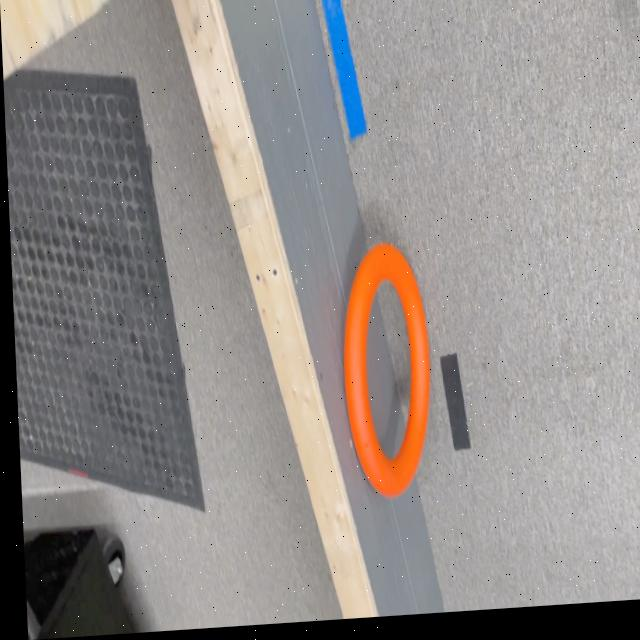note: (334, 246, 433, 504)
